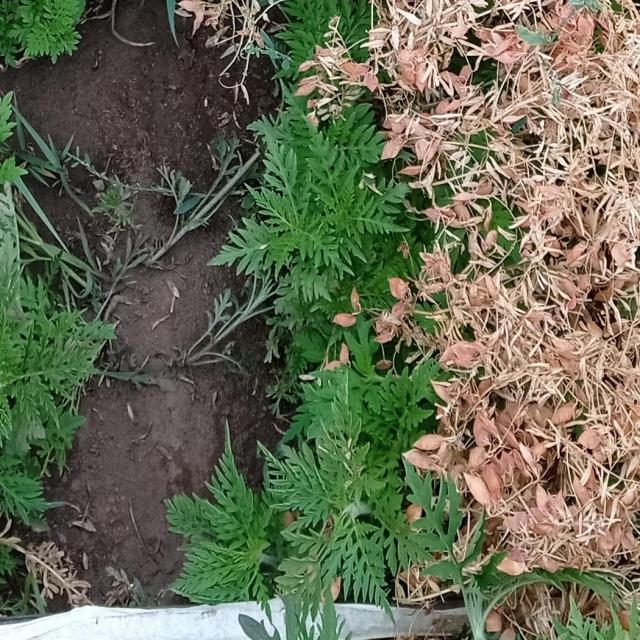AMBEL: (0, 229, 146, 502), (286, 318, 482, 458), (161, 436, 302, 625), (228, 121, 340, 288), (306, 121, 394, 277), (0, 0, 79, 64), (0, 92, 34, 214)
